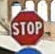stop: (9, 8, 44, 45)
